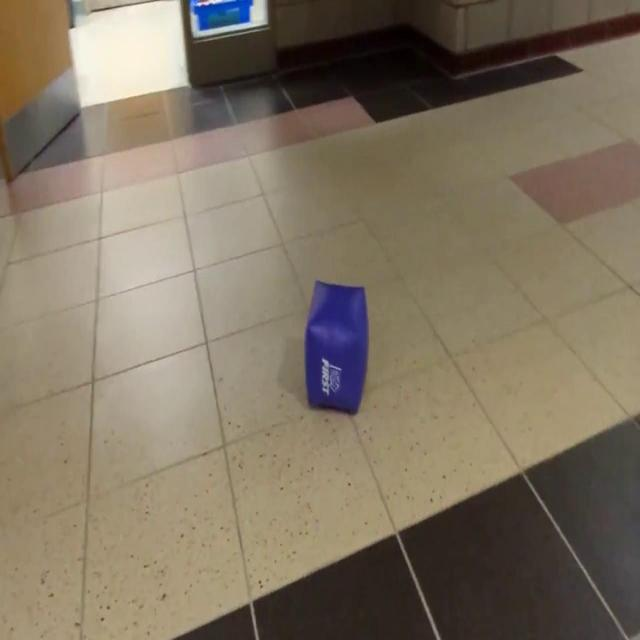frc_cube: (302, 284, 368, 412)
